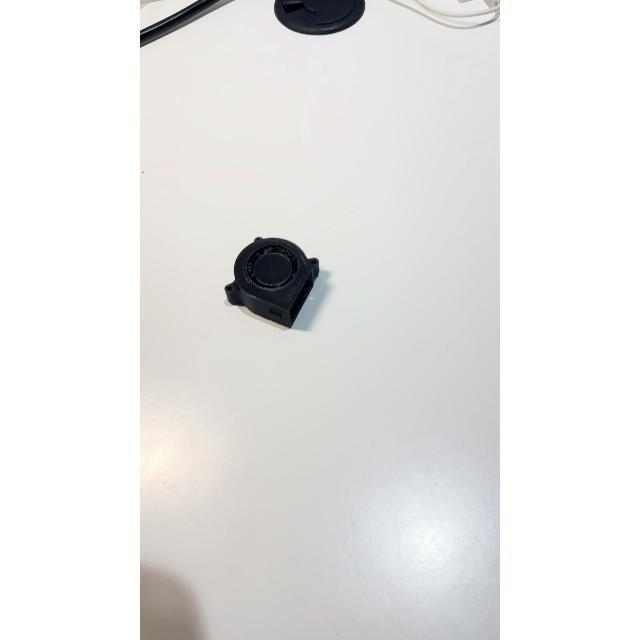Pieza3: (216, 228, 332, 338)
